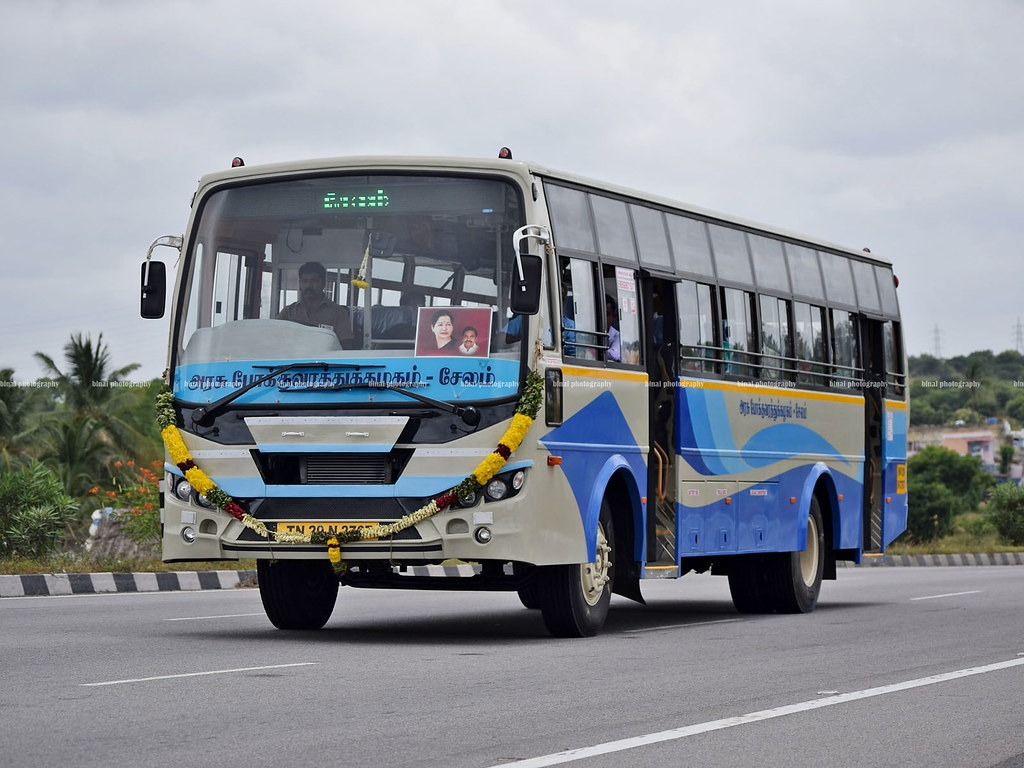bus: (126, 152, 918, 651)
numberplate: (276, 517, 380, 549)
